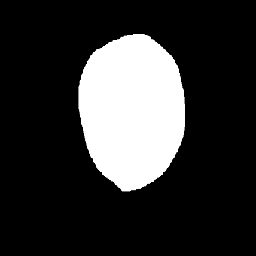mass: (82, 35, 185, 189)
